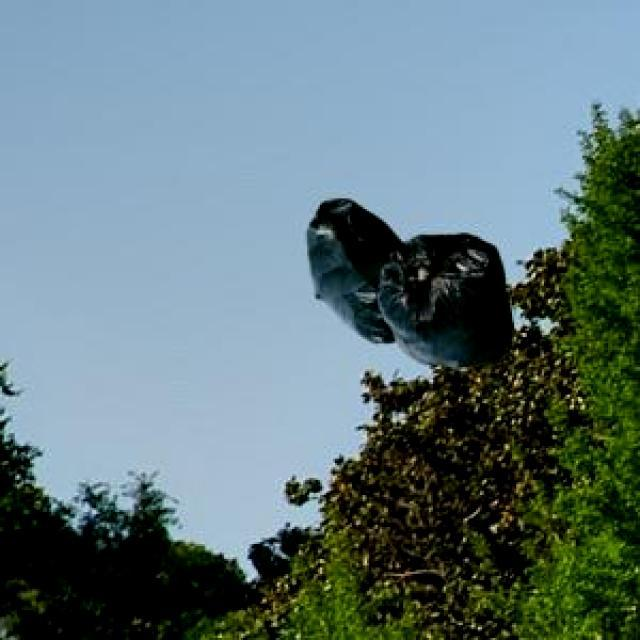Trashbag: (376, 232, 518, 368), (302, 195, 406, 348)
